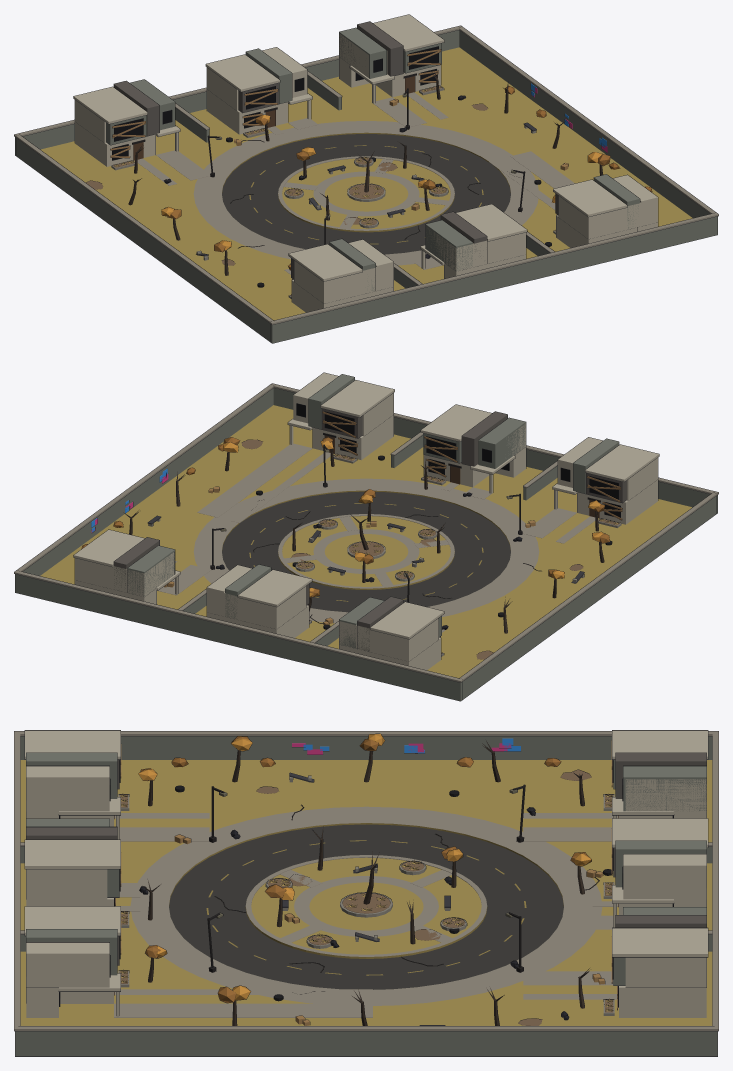
Rendered from Residencial_Deteriorado.fbx.
3 views of the same model, one above another, from view 1: azimuth 30°, elevation 25°; view 2: azimuth 150°, elevation 25°; view 3: azimuth 270°, elevation 25° (orthographic). The views are drawn at different scales.
Parts seen in each view (by area): view 1: Deteriorado_Suelo, Deteriorado_Edificios, Deteriorado_Decoracion; view 2: Deteriorado_Suelo, Deteriorado_Edificios, Deteriorado_Decoracion; view 3: Deteriorado_Suelo, Deteriorado_Edificios, Deteriorado_Decoracion.
Boxes of the visible parts, x1=… form: Deteriorado_Suelo: x1=40, y1=47, x2=692, y2=320; Deteriorado_Edificios: x1=14, y1=14, x2=718, y2=343; Deteriorado_Decoracion: x1=86, y1=49, x2=652, y2=298; Deteriorado_Suelo: x1=40, y1=405, x2=691, y2=677; Deteriorado_Edificios: x1=14, y1=372, x2=718, y2=701; Deteriorado_Decoracion: x1=81, y1=411, x2=622, y2=659; Deteriorado_Suelo: x1=20, y1=760, x2=712, y2=1025; Deteriorado_Edificios: x1=14, y1=730, x2=718, y2=1056; Deteriorado_Decoracion: x1=115, y1=733, x2=617, y2=1025.
Size of the model in its own units: 64.22 by 7.16 by 64.22.
Materials: 2 (1 with a texture image).
